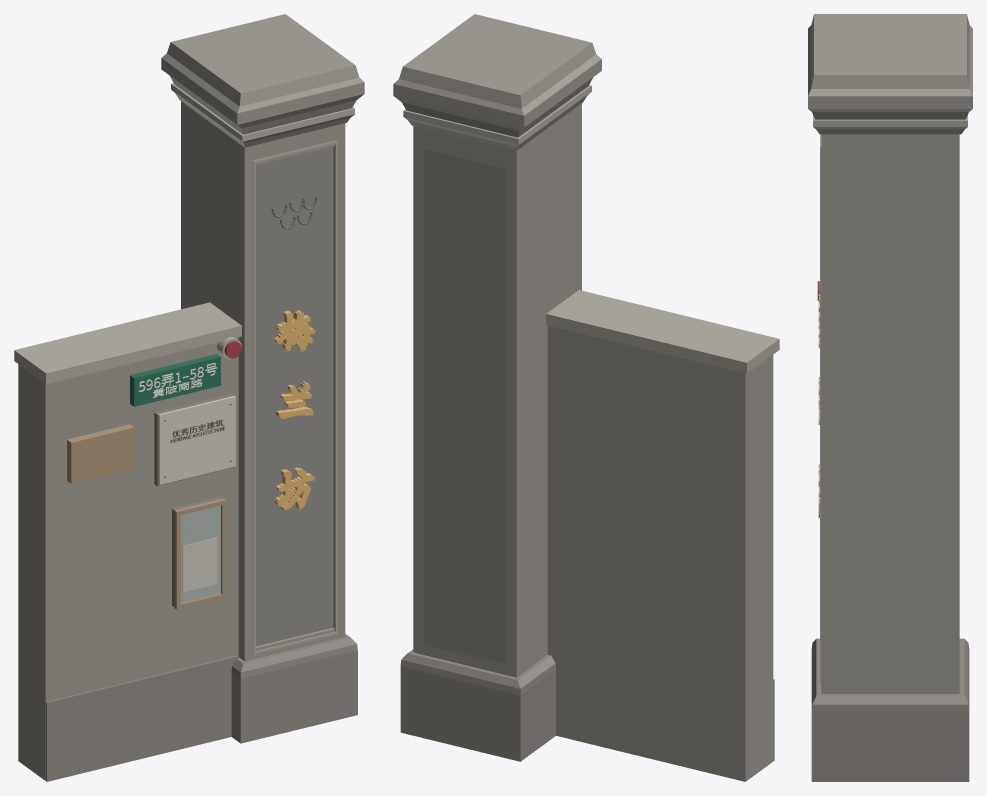
Rendered from huangpu-meilan-lane-named-gatepost-web.glb.
The picture shows the model from 3 angles, left to right: view 1: azimuth 30°, elevation 25°; view 2: azimuth 150°, elevation 25°; view 3: azimuth 270°, elevation 25°; orthographic projection. The views are drawn at different scales.
Parts seen in each view (by area): view 1: 梅兰坊黄陂南路596弄题名门柱与铭牌墙; view 2: 梅兰坊黄陂南路596弄题名门柱与铭牌墙; view 3: 梅兰坊黄陂南路596弄题名门柱与铭牌墙.
Part boxes in pixels (box(x1,y1,x2,y2)): 梅兰坊黄陂南路596弄题名门柱与铭牌墙: box(14, 14, 364, 781); 梅兰坊黄陂南路596弄题名门柱与铭牌墙: box(393, 14, 779, 781); 梅兰坊黄陂南路596弄题名门柱与铭牌墙: box(808, 14, 972, 781).
Size of the model in its own units: 1.85 by 3.71 by 0.785.
